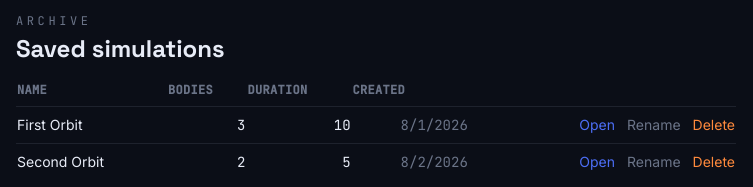
Test: SavedSimulationsPage › renames a simulation via the Rename action
This screenshot has width=753, height=187.
Expected: the text "First Orbit" is shown, [16,106,167,144]
Click the button "Rename" in the row of "First Orbit".
click(654, 125)  # box [627,115,680,135]
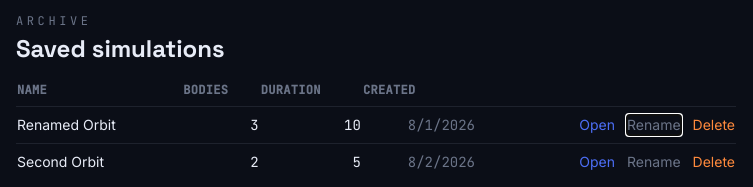
Result: the text "Renamed Orbit" is shown at [16,106,182,144]
